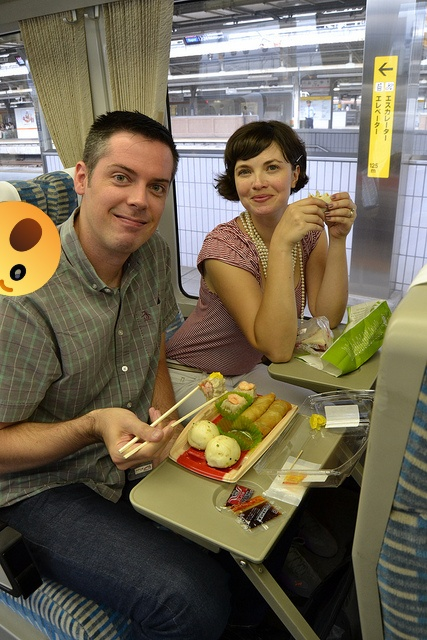wow: (0, 201, 61, 296)
